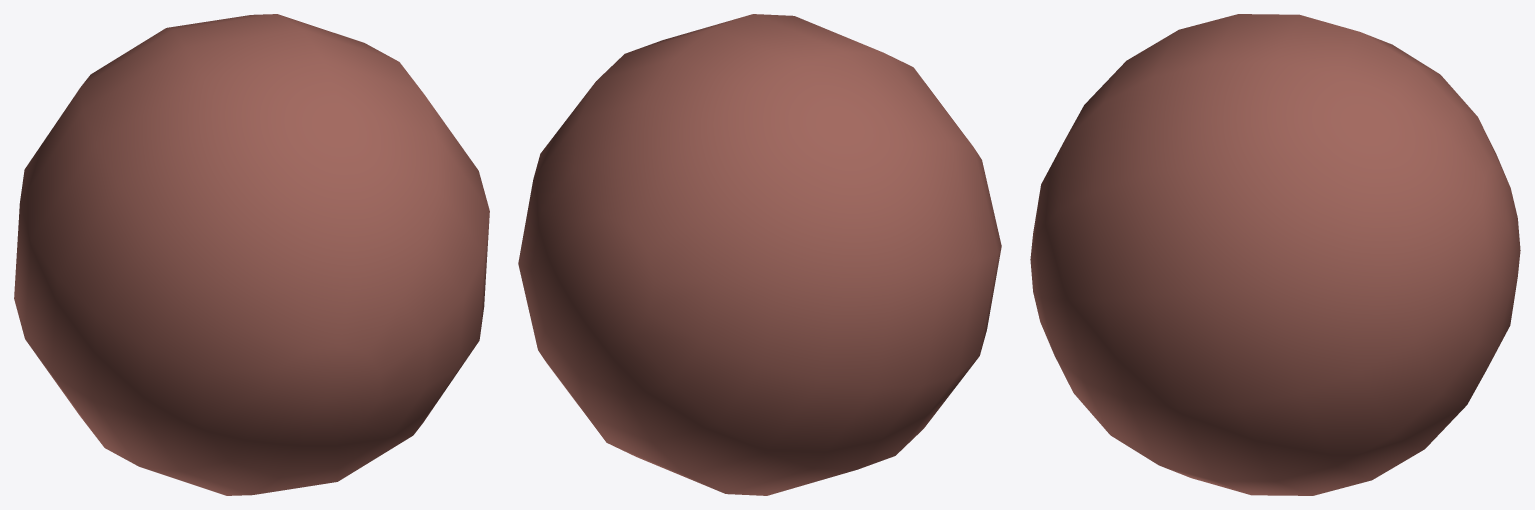
File: mixamo_humanoid_joint_rightHandPinky2.fbx
3 views of the same model, side by side, from view 1: azimuth 30°, elevation 25°; view 2: azimuth 150°, elevation 25°; view 3: azimuth 270°, elevation 25° (orthographic).
Parts seen in each view (by area): view 1: joint_RightHandPinky2; view 2: joint_RightHandPinky2; view 3: joint_RightHandPinky2.
Boxes of the visible parts, x1,y1,x2,y2 form: joint_RightHandPinky2: [14, 14, 489, 495]; joint_RightHandPinky2: [518, 14, 1001, 495]; joint_RightHandPinky2: [1030, 14, 1520, 495].
Size of the model in its own units: 1.65 by 1.64 by 1.68.
